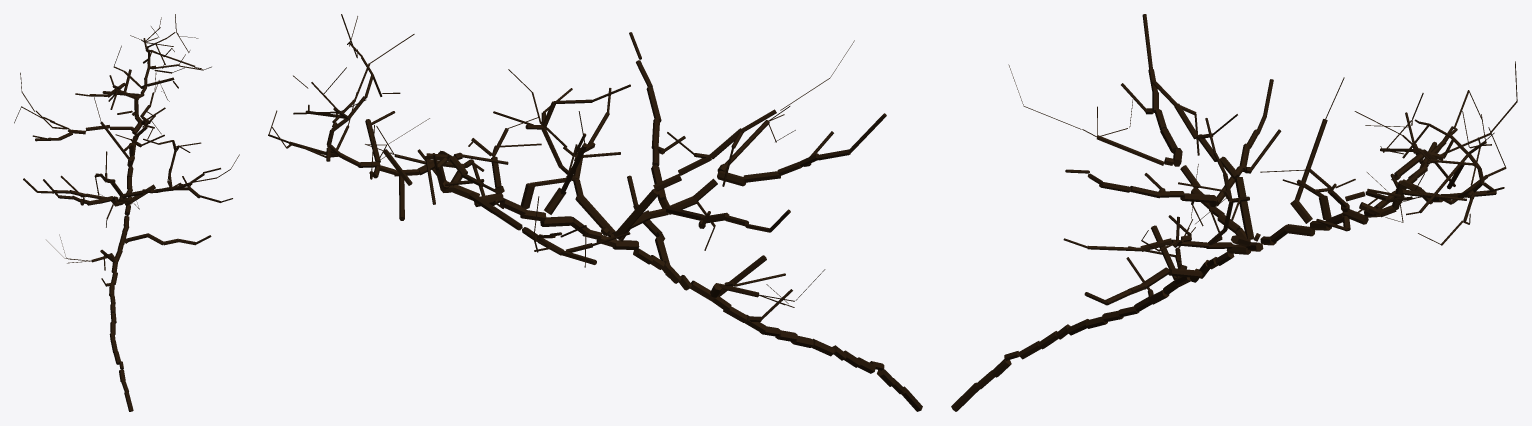
Rendered from tree_538_no_leaf.obj.
The picture shows the model from 3 angles, left to right: view 1: azimuth 30°, elevation 25°; view 2: azimuth 150°, elevation 25°; view 3: azimuth 270°, elevation 25°; orthographic projection. The views are drawn at different scales.
Visible parts, largest first — view 1: TrunkAndBranches; view 2: TrunkAndBranches; view 3: TrunkAndBranches.
Boxes of the visible parts, left/top/right/bottom form: TrunkAndBranches: left=14, top=14, right=239, bottom=411; TrunkAndBranches: left=268, top=14, right=922, bottom=411; TrunkAndBranches: left=951, top=14, right=1517, bottom=411.
Bounding box in the file's own units: 2.9 × 2.95 × 3.21.
